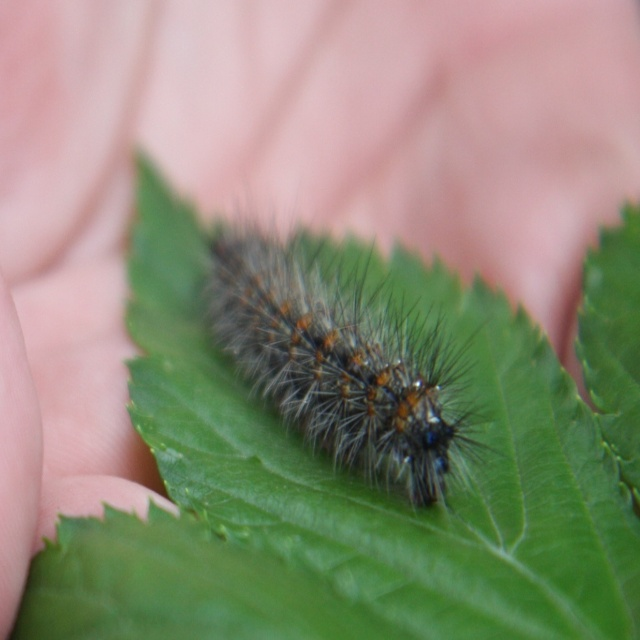Caterpillar: (201, 174, 517, 517)
